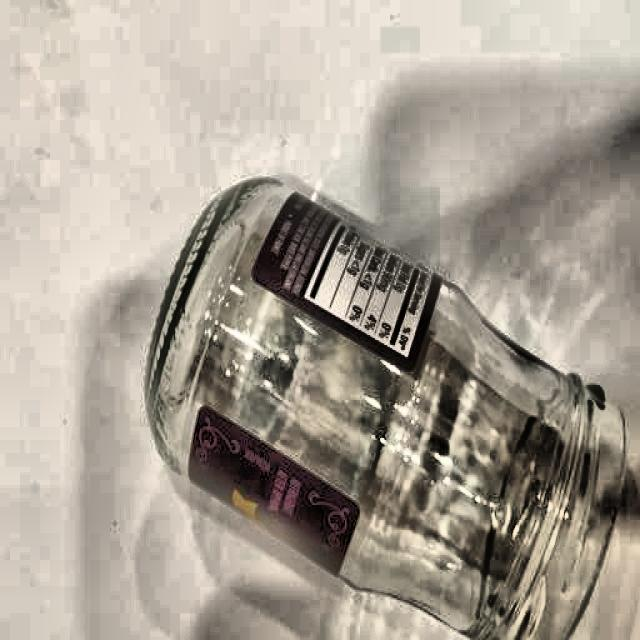glass: (142, 174, 639, 640)
